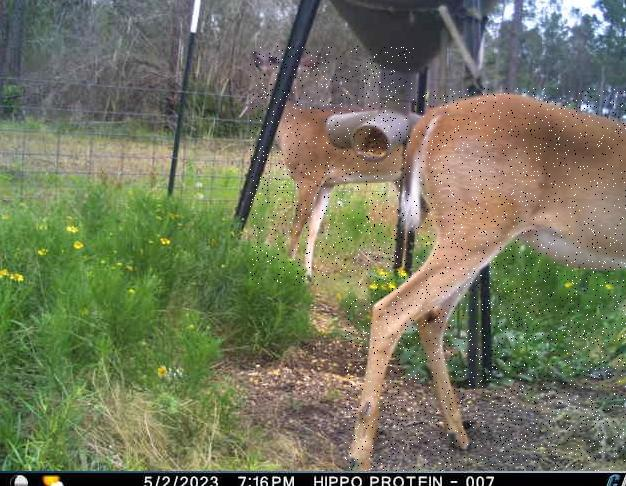Deer: (345, 88, 626, 471), (250, 46, 414, 285)
